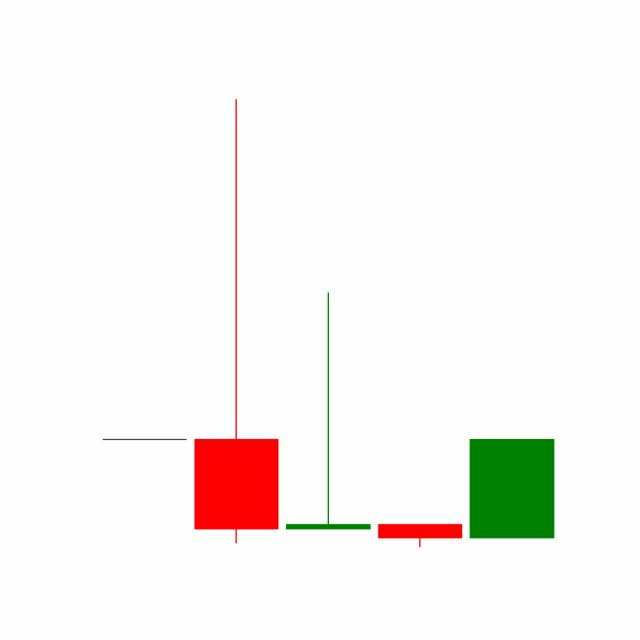Marubozu: (464, 436, 558, 538)
